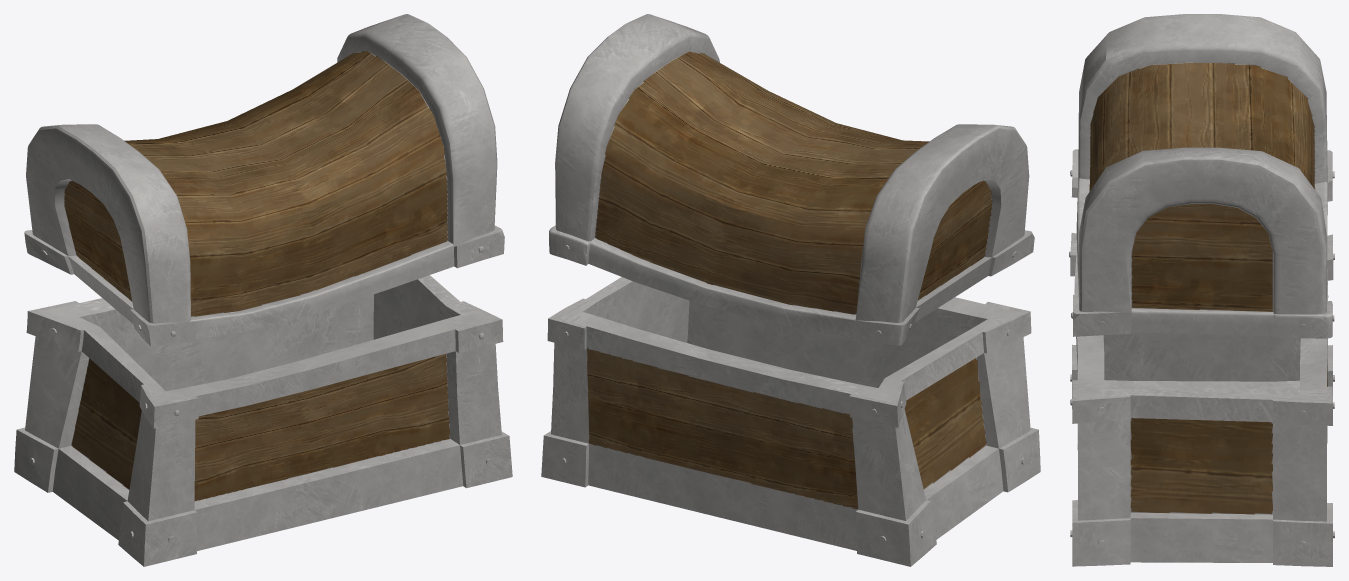
Rendered from PocaoBau3.glb.
3 views of the same model, side by side, from view 1: azimuth 30°, elevation 25°; view 2: azimuth 150°, elevation 25°; view 3: azimuth 270°, elevation 25° (orthographic).
Visible parts, largest first — view 1: Cube; view 2: Cube; view 3: Cube.
Part boxes in pixels (<box>): Cube: <box>14,14,512,566</box>; Cube: <box>541,14,1040,566</box>; Cube: <box>1069,14,1334,566</box>.
Size of the model in its own units: 2.95 by 3.08 by 1.83.
Materials: 1 (1 with a texture image).
